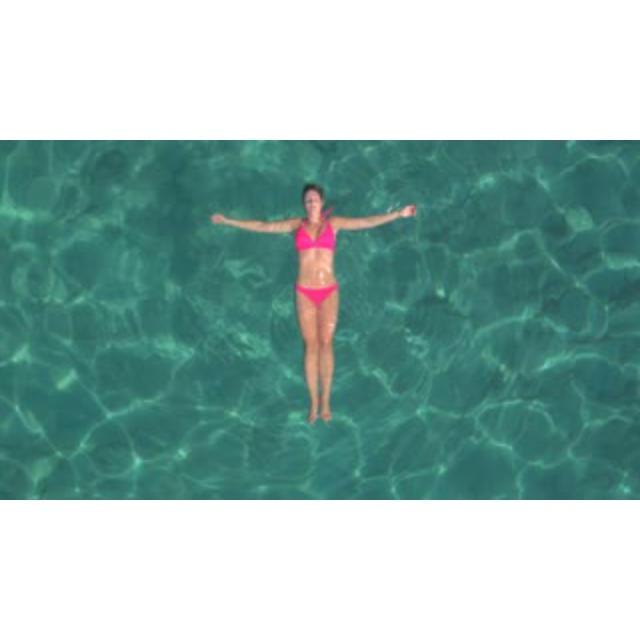human: (210, 184, 418, 424)
